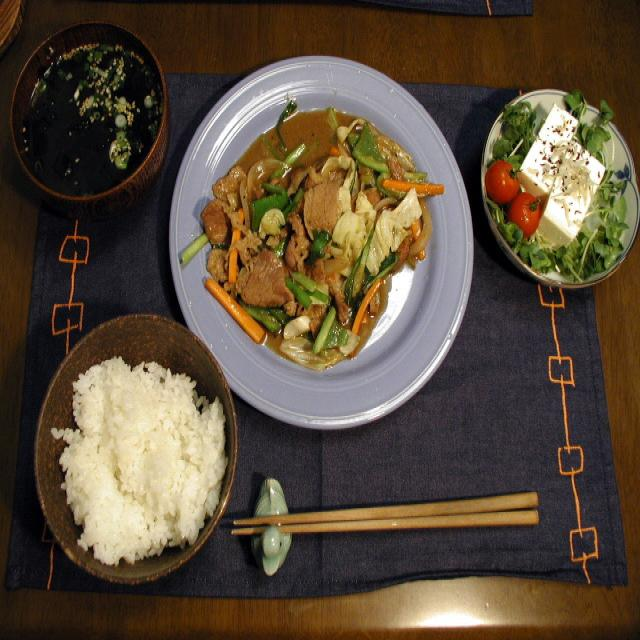蔬菜料理: (201, 93, 436, 395)
